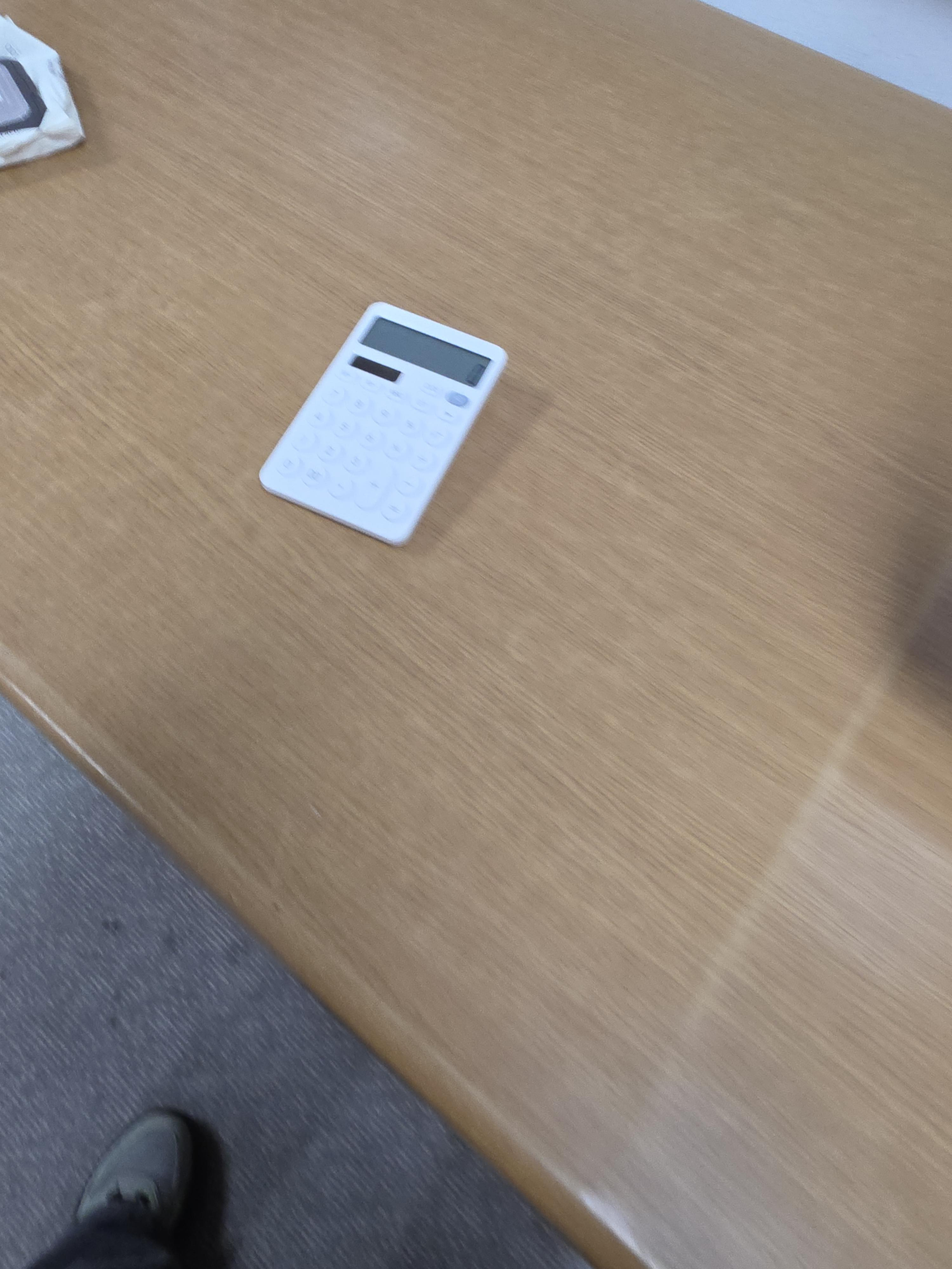calculator: (258, 301, 509, 547)
tissue: (0, 15, 85, 167)
